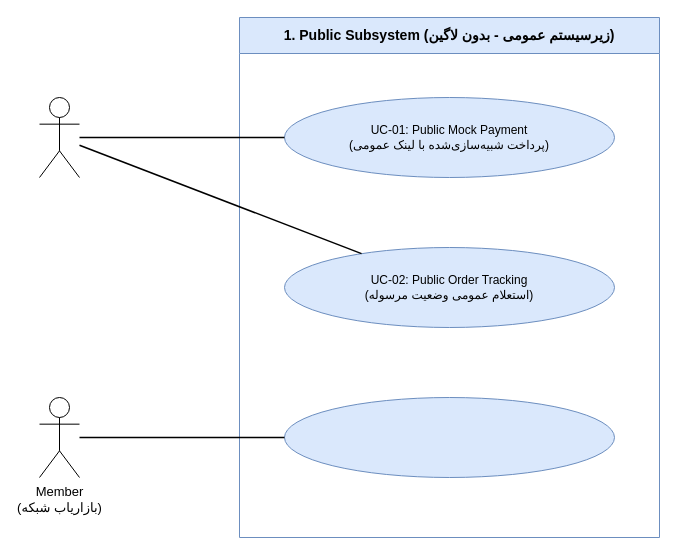
This 677x555 diagram has some shape labels left out. The shapes that lost their labels are listed below. From the top down, each one's centre as x and y in pixels, then its label:
the point at 59,137: Customer (مشتری نهایی)
the point at 449,437: UC-03: Member Registration (ثبت‌نام با یا بدون کد معرف)
